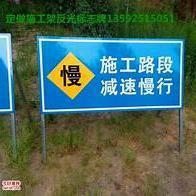sign: (39, 36, 184, 112)
